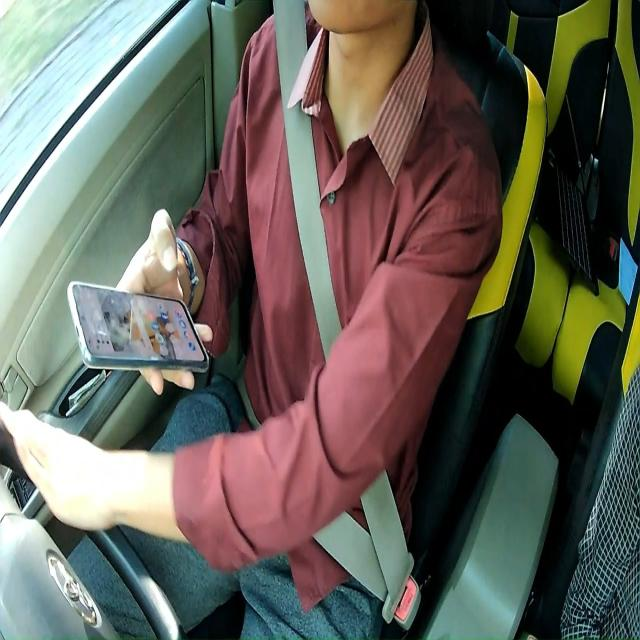phone: (64, 279, 212, 378)
